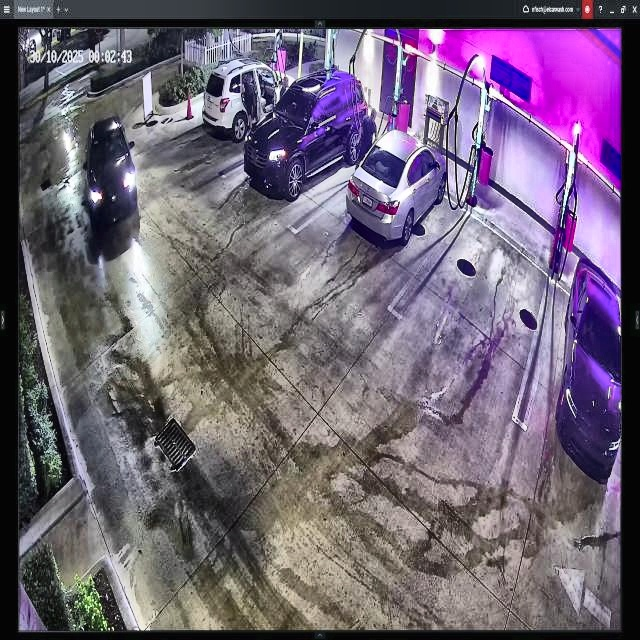Car: (243, 67, 368, 200), (346, 129, 448, 244), (203, 61, 295, 141), (84, 119, 136, 219)
